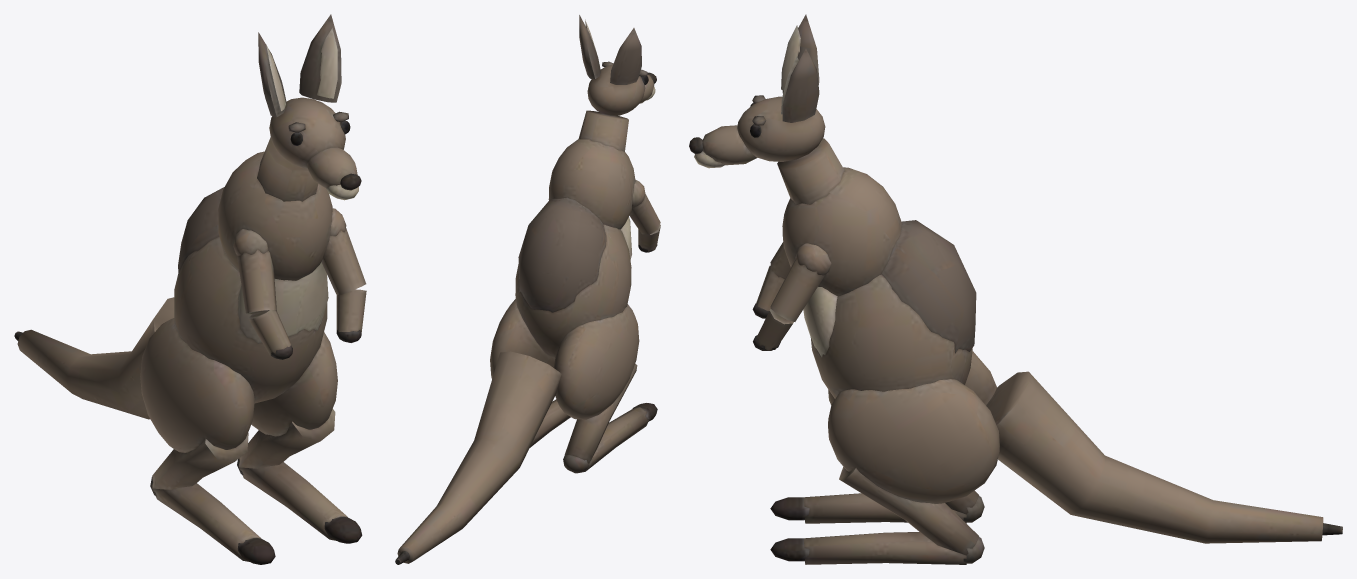
File: kangaroo_stand.glb
3 renders of one model, left to right at view 1: azimuth 30°, elevation 25°; view 2: azimuth 150°, elevation 25°; view 3: azimuth 270°, elevation 25°, orthographic. The views are drawn at different scales.
Visible parts, largest first — view 1: kangaroo_stand; view 2: kangaroo_stand; view 3: kangaroo_stand.
Part boxes in pixels (<box>): kangaroo_stand: <box>14,14,366,564</box>; kangaroo_stand: <box>395,15,660,564</box>; kangaroo_stand: <box>689,14,1342,564</box>.
Size of the model in its own units: 0.43 by 1.4 by 1.62.
1 material, 1 textured.
